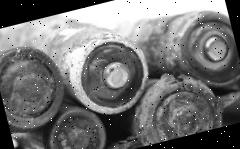electronic: (14, 0, 162, 131)
